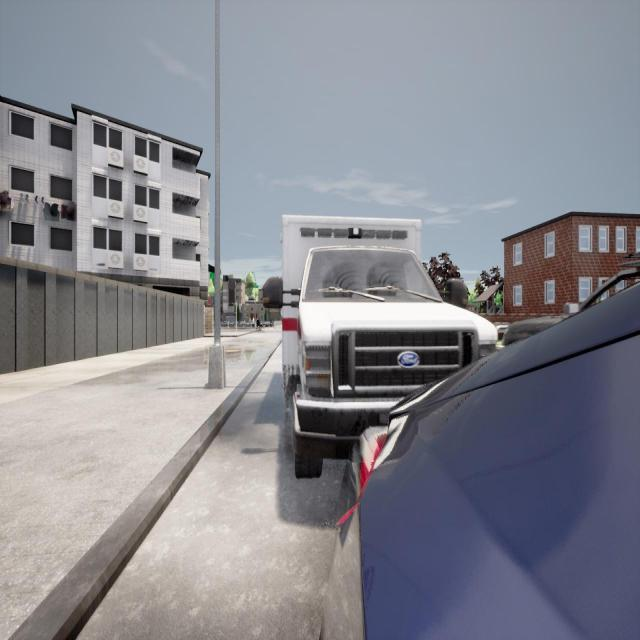Vehicle: (321, 249, 640, 640), (262, 218, 497, 481), (502, 264, 638, 345)
traffic_light: (233, 304, 237, 313)
